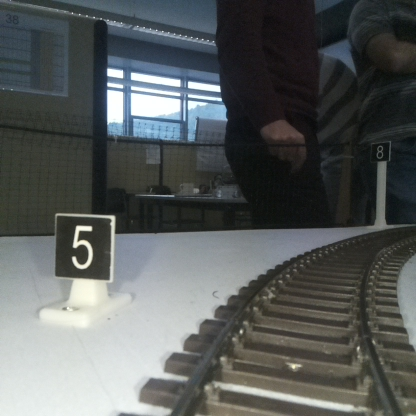black-info-8: (371, 141, 390, 227)
black-stop-5: (55, 216, 114, 321)
